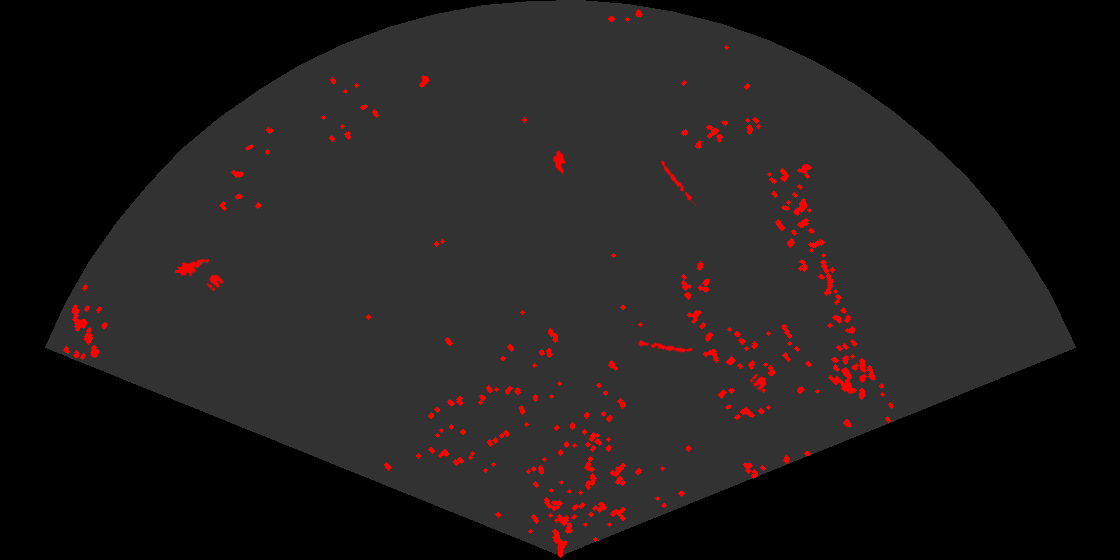AUV: (551, 149, 567, 176)
ball: (748, 372, 768, 392), (205, 273, 225, 293)
chain: (660, 159, 696, 206), (635, 339, 693, 354)
frogman: (175, 257, 209, 278)
